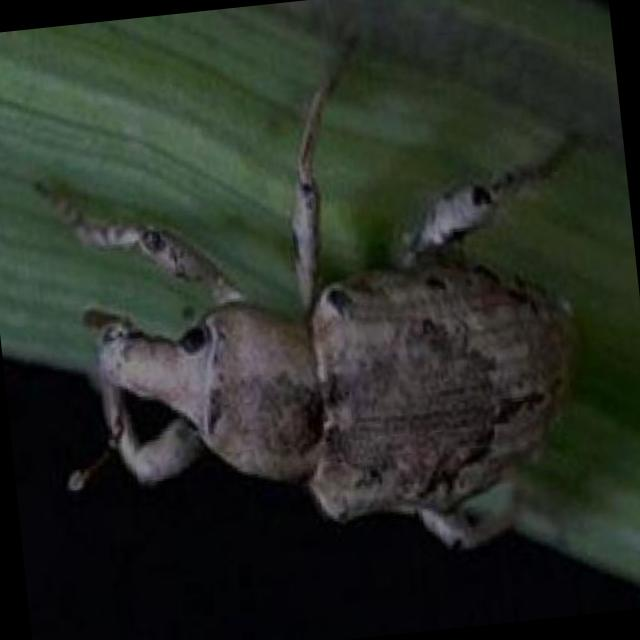rice-bug: (53, 29, 590, 566)
